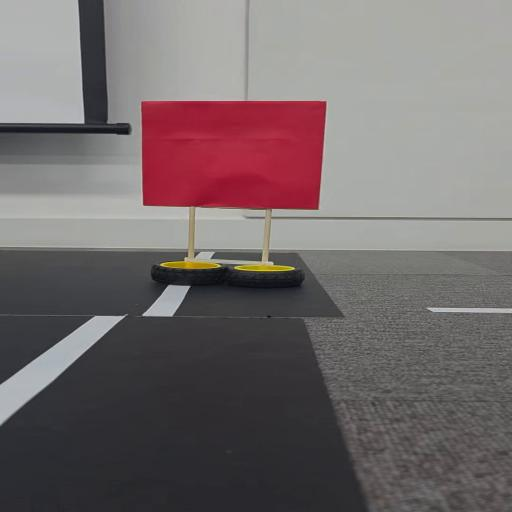Sign_A: (131, 92, 332, 294)
